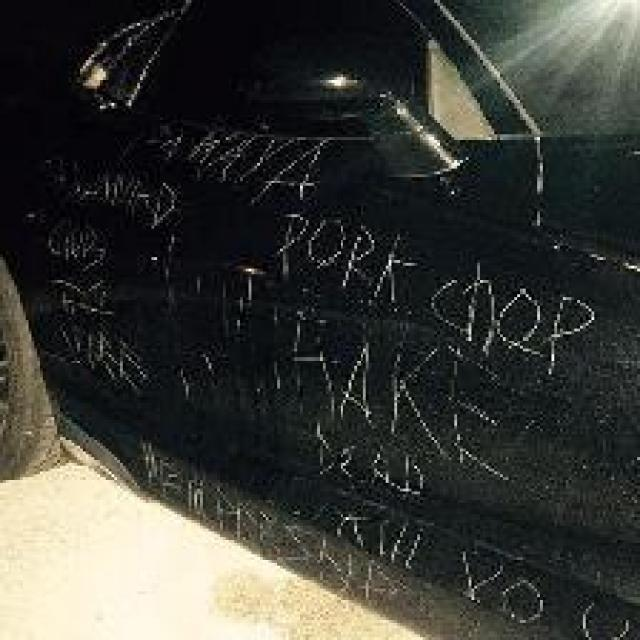damaged: (37, 132, 634, 637)
